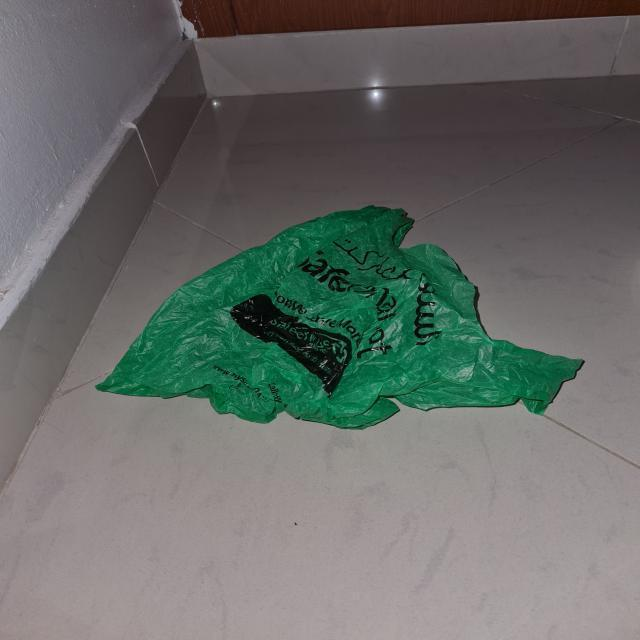Plastic_Bag: (93, 210, 583, 432)
